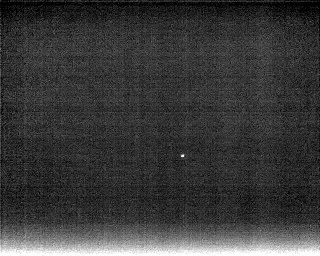BIRD: (178, 151, 187, 162)
